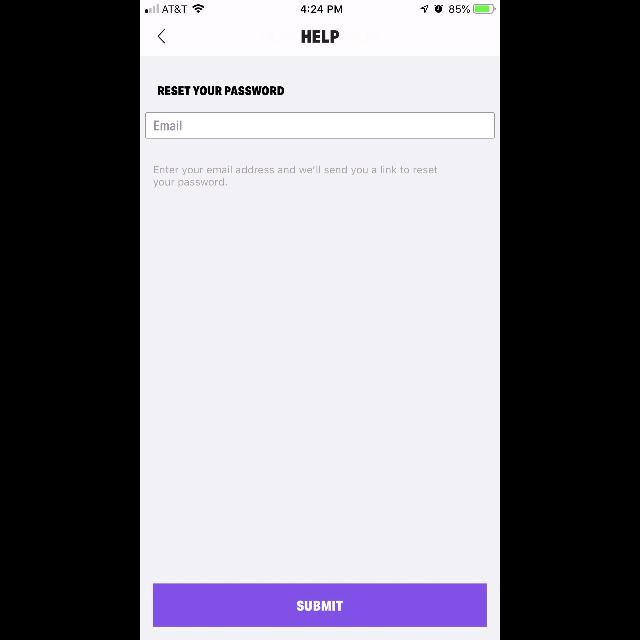icon: (158, 28, 166, 44)
input: (146, 113, 494, 139)
text: (154, 166, 438, 188), (158, 87, 284, 95), (302, 31, 338, 44), (154, 121, 182, 131)
textbutton: (154, 584, 486, 626)
uppertaskbar: (140, 0, 500, 14)
